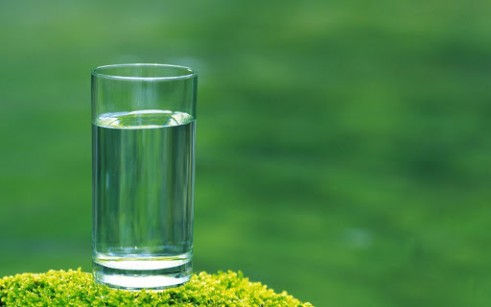glass of water: (86, 60, 192, 285)
